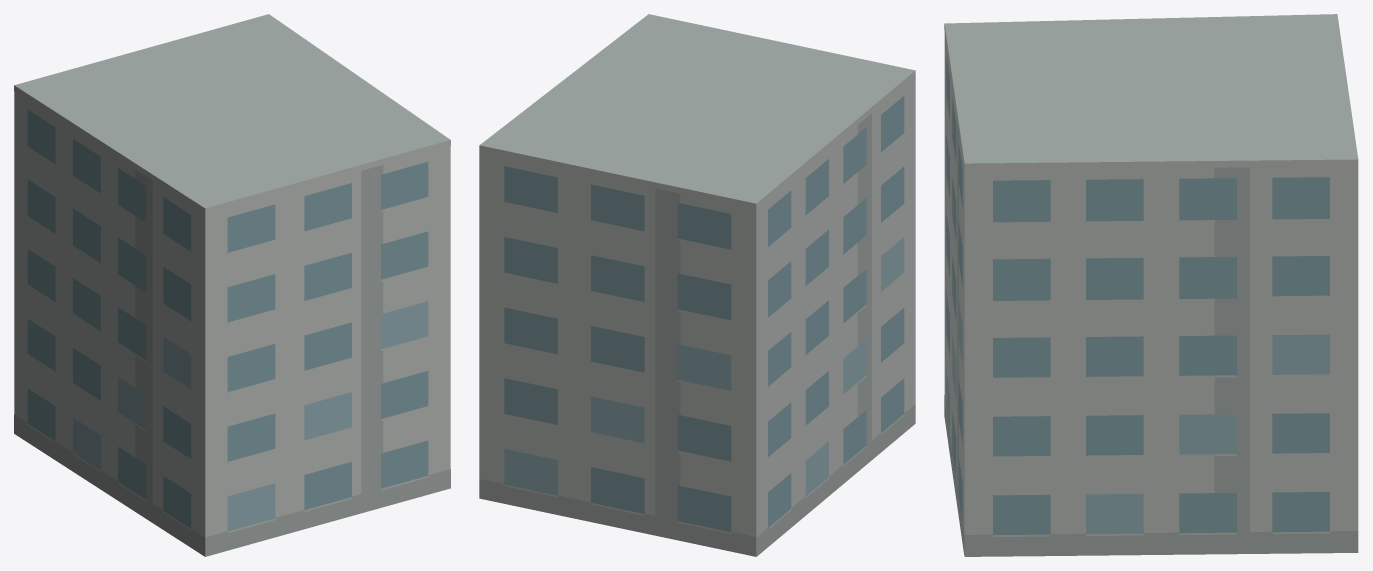
The model's file is survey-upis-32886786.glb.
3 views of the same model, side by side, from view 1: azimuth 30°, elevation 25°; view 2: azimuth 150°, elevation 25°; view 3: azimuth 270°, elevation 25° (orthographic). The views are drawn at different scales.
Parts seen in each view (by area): view 1: survey-upis-32886786.tmp; view 2: survey-upis-32886786.tmp; view 3: survey-upis-32886786.tmp.
Boxes of the visible parts, x1,y1,x2,y2 form: survey-upis-32886786.tmp: [14, 14, 450, 556]; survey-upis-32886786.tmp: [479, 14, 915, 556]; survey-upis-32886786.tmp: [944, 14, 1358, 556].
Size of the model in its own units: 11.67 by 14.3 by 13.64.
